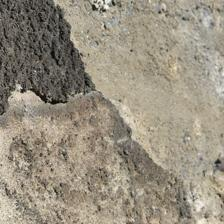Crack: (33, 2, 151, 89), (44, 26, 149, 71)
